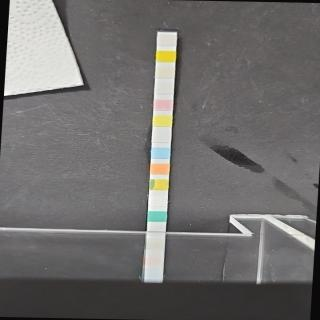mark: (150, 162, 170, 176), (154, 83, 173, 96), (156, 35, 176, 47), (154, 115, 172, 128), (157, 51, 176, 63), (155, 66, 174, 78), (154, 99, 173, 111), (148, 195, 168, 206), (150, 178, 168, 190), (152, 132, 171, 143), (151, 148, 170, 159), (148, 211, 167, 222)
